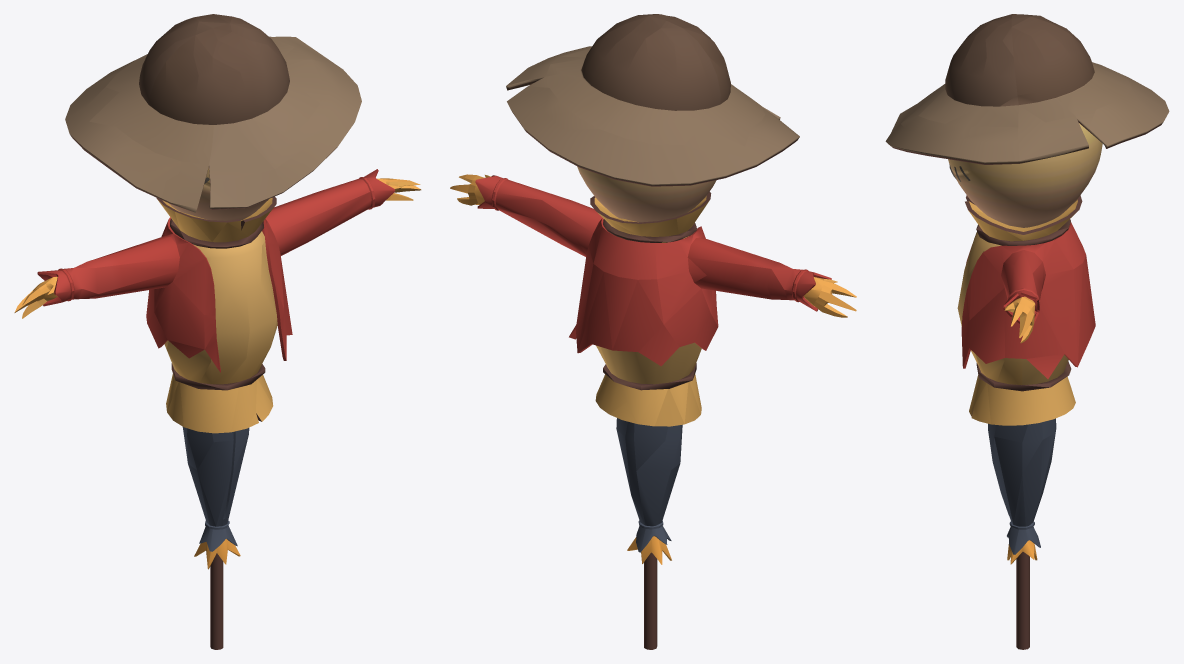
The model's file is Scarecrow.fbx.
3 views of the same model, side by side, from view 1: azimuth 30°, elevation 25°; view 2: azimuth 150°, elevation 25°; view 3: azimuth 270°, elevation 25° (orthographic).
Visible parts, largest first — view 1: Scarecrow; view 2: Scarecrow; view 3: Scarecrow.
Boxes of the visible parts, x1,y1,x2,y2 form: Scarecrow: (14, 14, 421, 649); Scarecrow: (450, 14, 856, 649); Scarecrow: (885, 14, 1169, 649).
Bounding box in the file's own units: 336 × 494 × 204.
